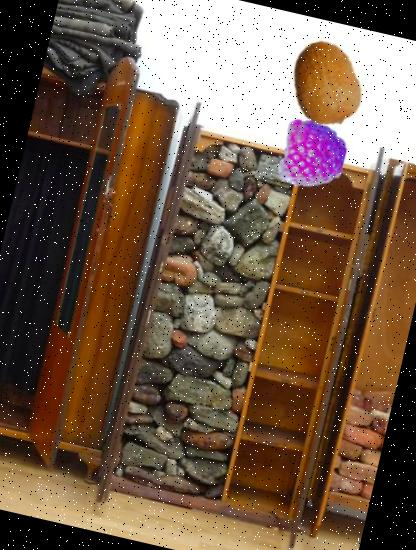Kiwi: (274, 32, 378, 135)
Raspberry: (272, 114, 356, 198)
